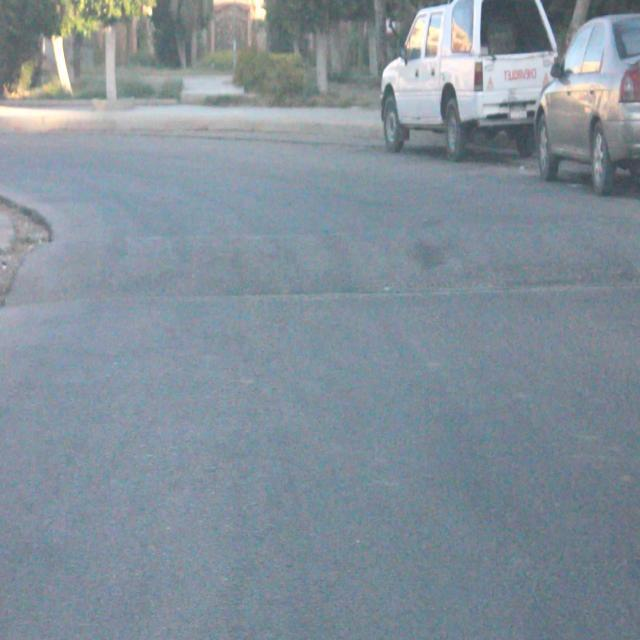NonMarked Bump: (35, 225, 640, 305)
